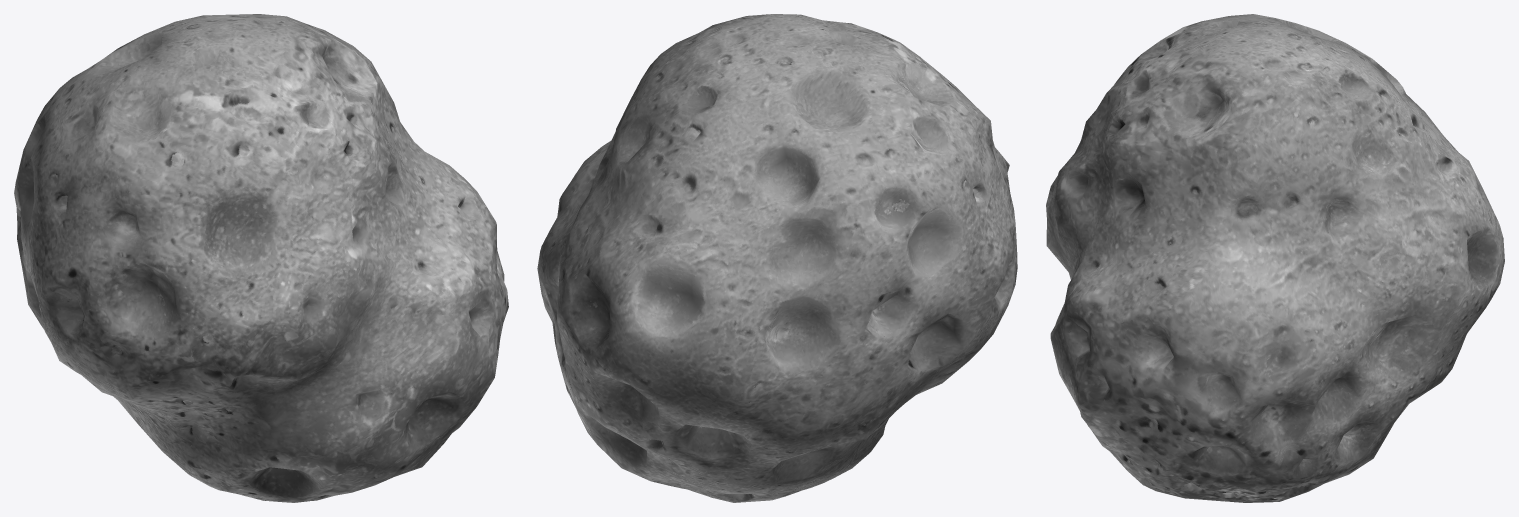
The model's file is rock_08.glb.
3 renders of one model, left to right at view 1: azimuth 30°, elevation 25°; view 2: azimuth 150°, elevation 25°; view 3: azimuth 270°, elevation 25°, orthographic. The views are drawn at different scales.
Visible parts, largest first — view 1: rock_08; view 2: rock_08; view 3: rock_08.
Boxes of the visible parts, left/top/right/bottom form: rock_08: left=14, top=14, right=508, bottom=502; rock_08: left=537, top=14, right=1017, bottom=502; rock_08: left=1046, top=14, right=1504, bottom=502.
Bounding box in the file's own units: 1.77 × 1.77 × 1.74.
1 material, 1 textured.
